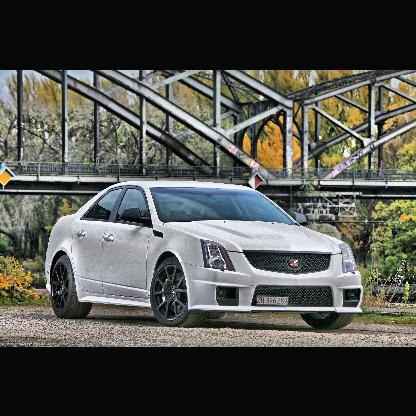Cadillac CTS-V Sedan 2012: (45, 181, 363, 329)
